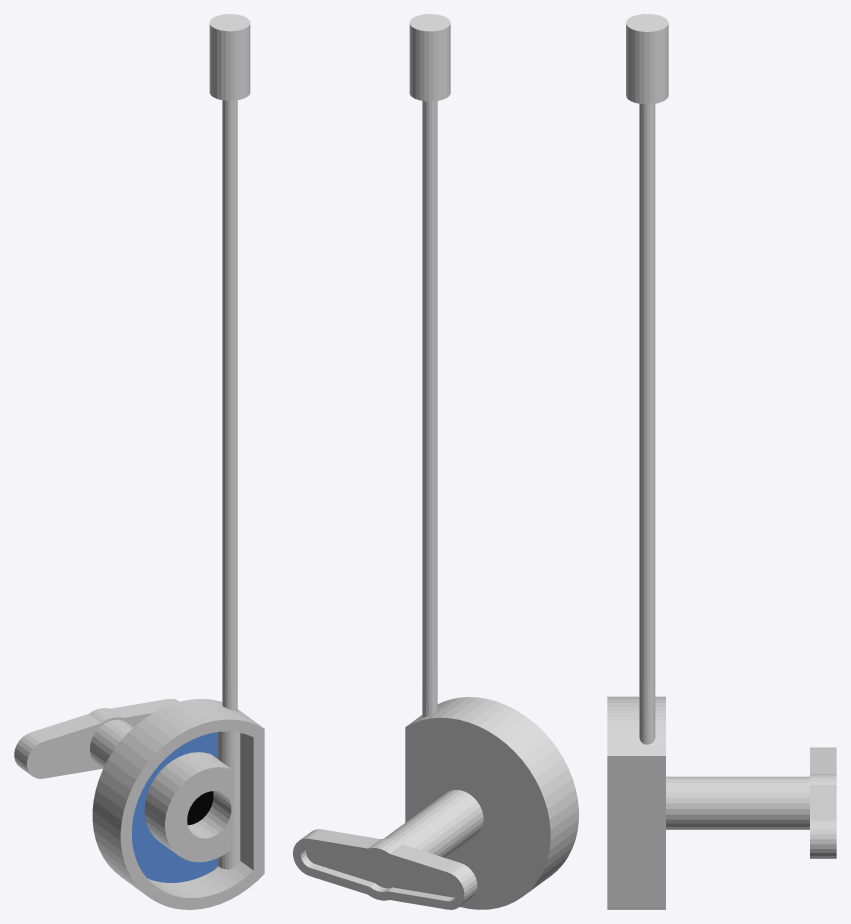
File: ear_right.dae
3 views of the same model, side by side, from view 1: azimuth 30°, elevation 25°; view 2: azimuth 150°, elevation 25°; view 3: azimuth 270°, elevation 25° (orthographic). The views are drawn at different scales.
Parts seen in each view (by area): view 1: ear_right; view 2: ear_right; view 3: ear_right.
Part boxes in pixels (x1,y1,x2,y2): ear_right: (14, 14, 264, 909); ear_right: (293, 14, 578, 909); ear_right: (607, 14, 836, 909).
Size of the model in its own units: 39.14 by 43 by 186.
